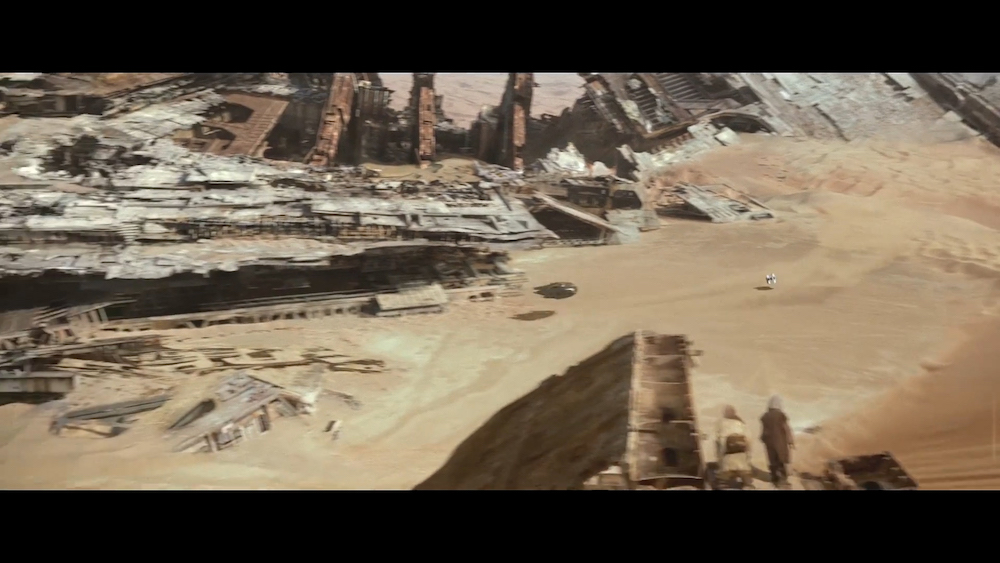Millennium Falcon: (533, 282, 578, 301)
Tie Fighter: (766, 274, 777, 286)
